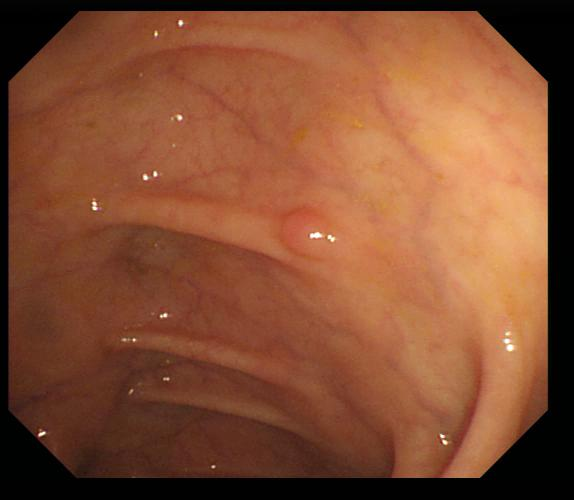polyp: (280, 206, 342, 263)
